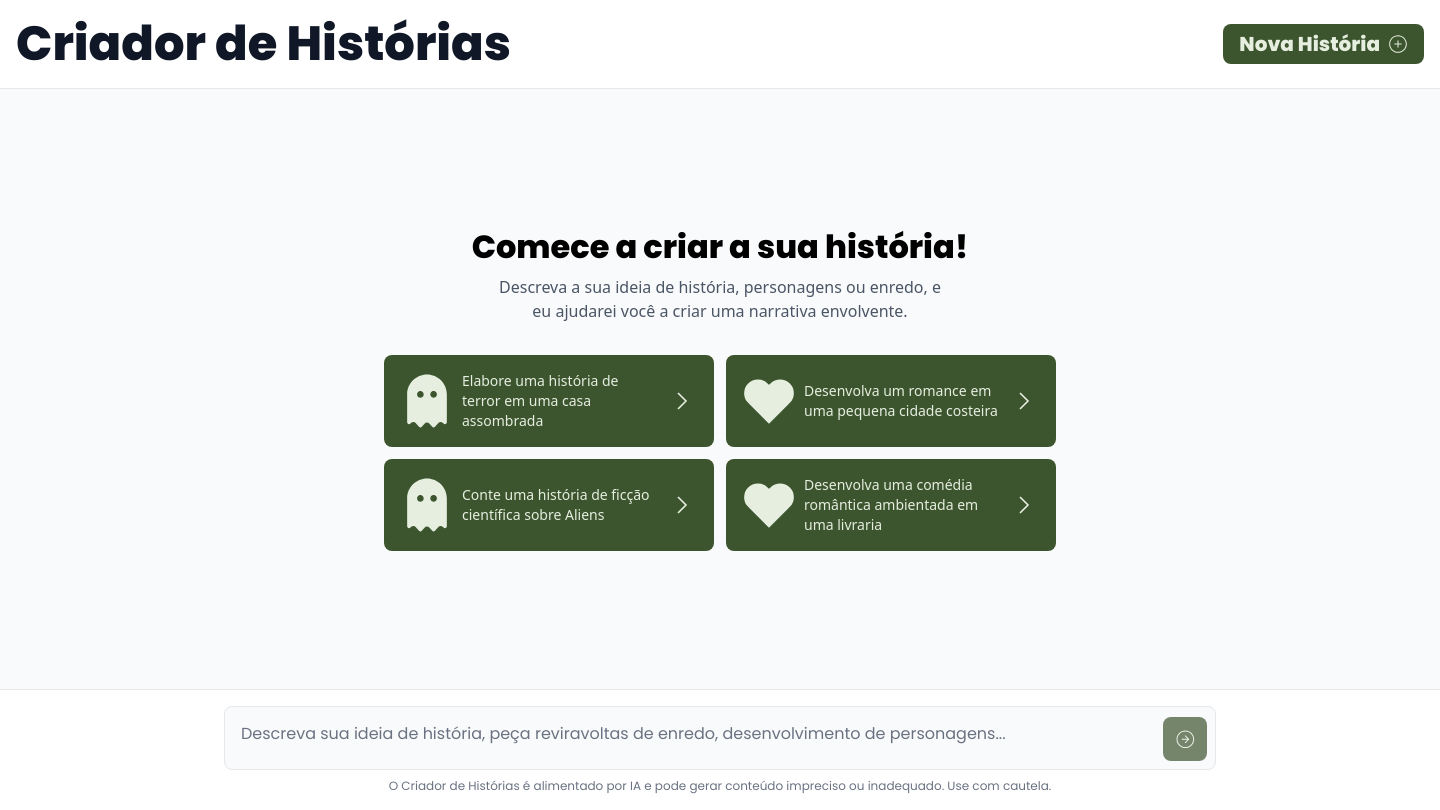
CreateStory › deve salvar rascunho no localStorage
Type "Rascunho" into the text box with placeholder "Descreva sua ideia de história" at (694,735), box [233,715,1155,755]
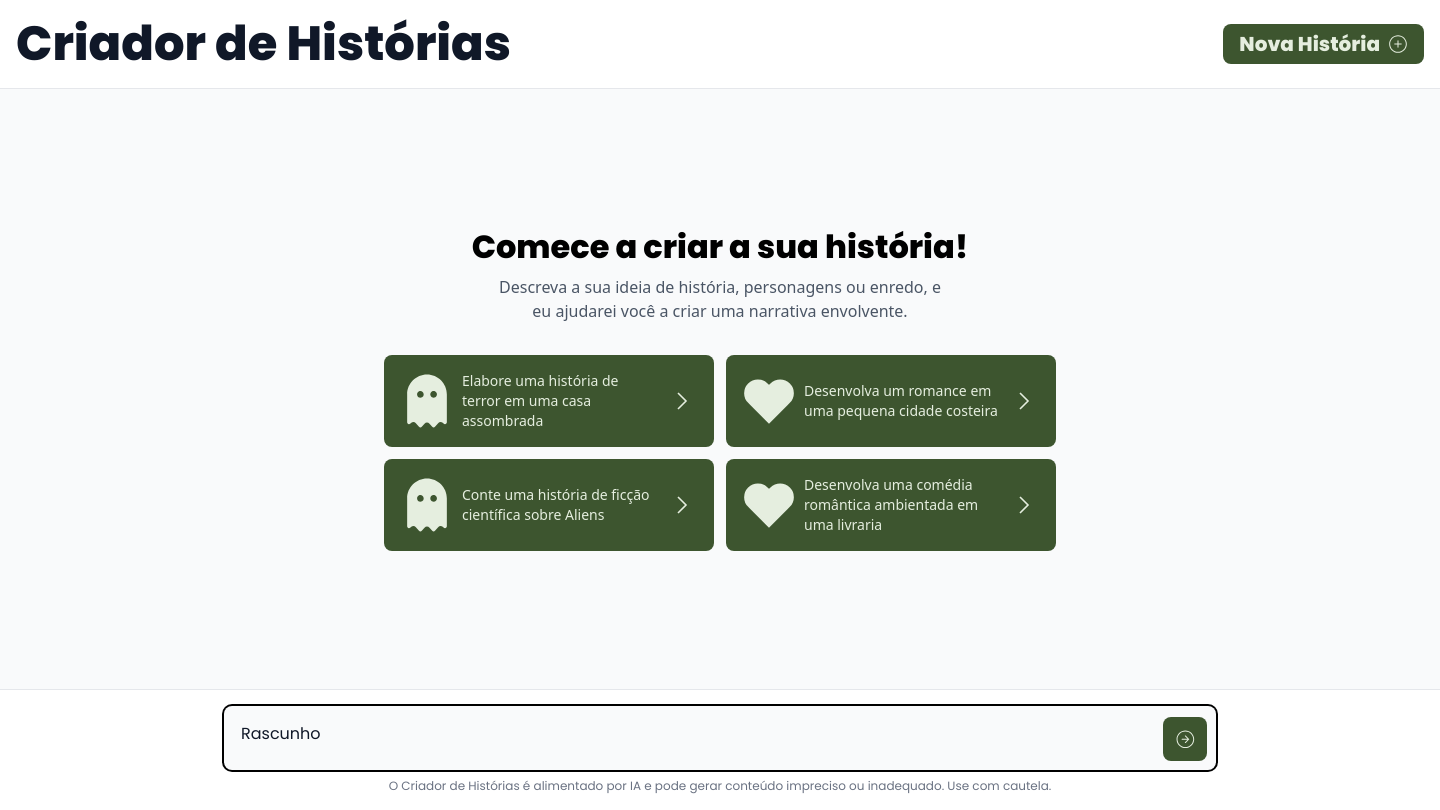
Click the button named "enviar mensagem" at (1185,739), box [1163,717,1207,761]
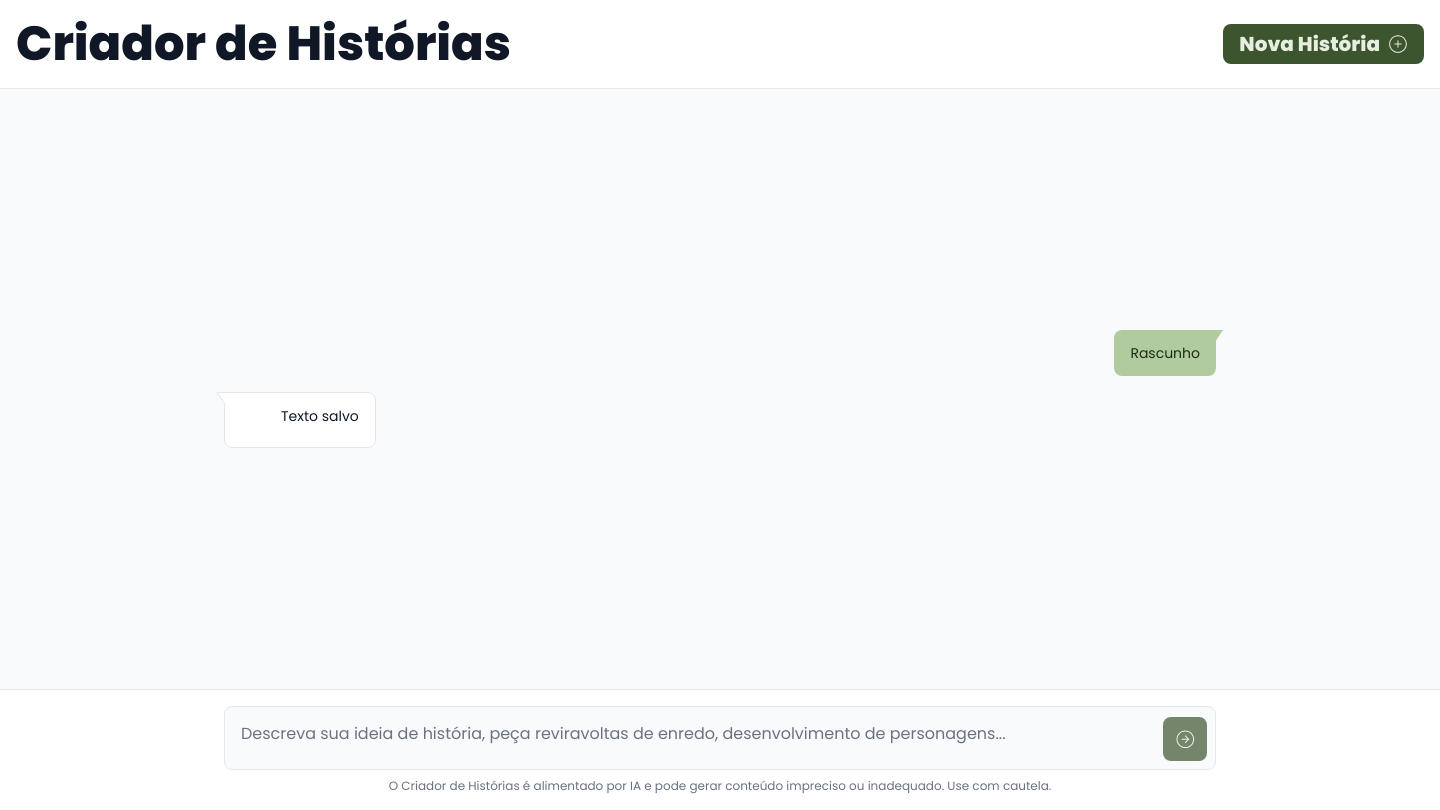
Now the text "Texto salvo" is shown, box [281,405,359,428]
